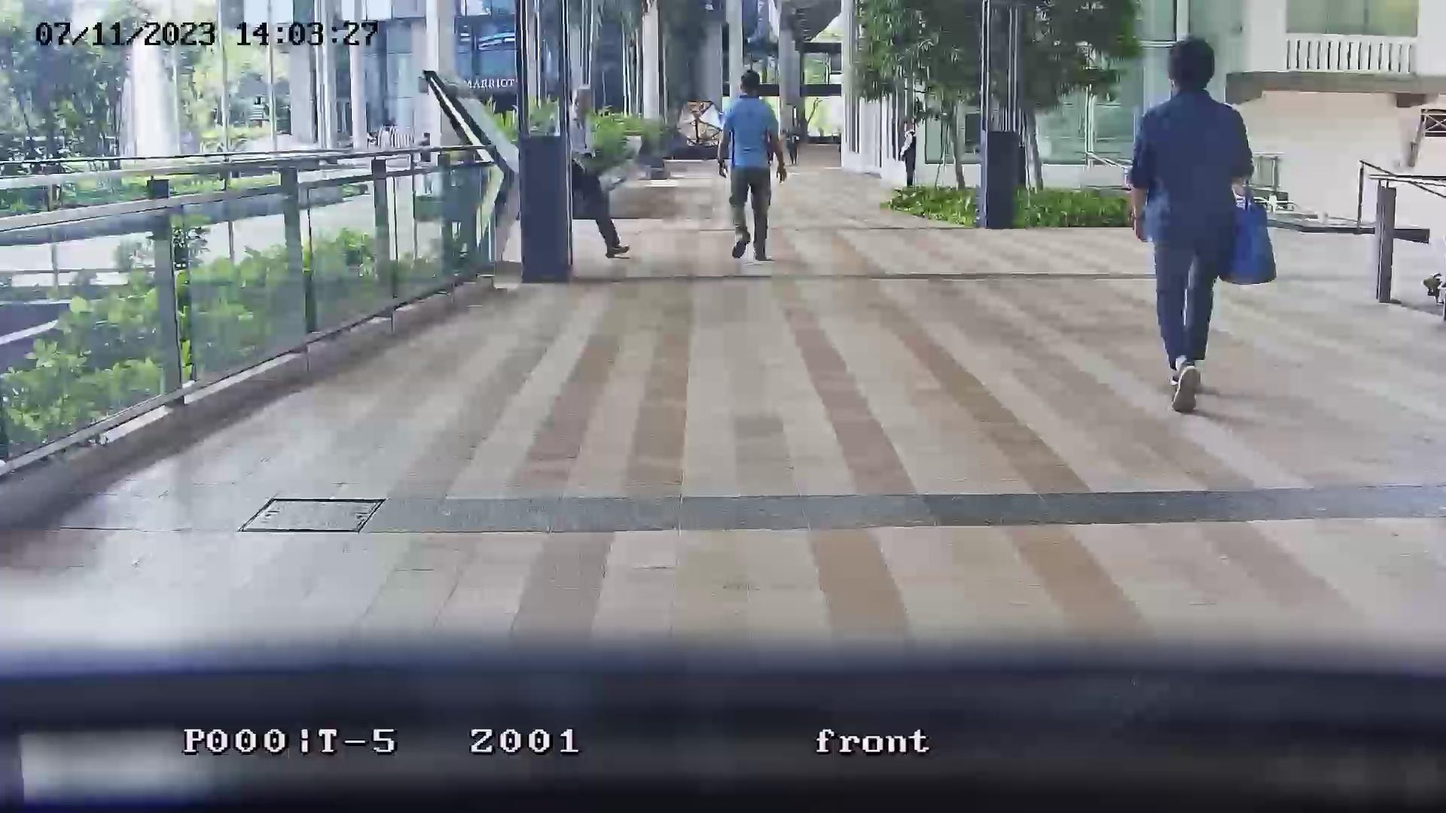person: (1127, 35, 1255, 415), (718, 70, 788, 263), (558, 85, 631, 256), (900, 117, 918, 185)
